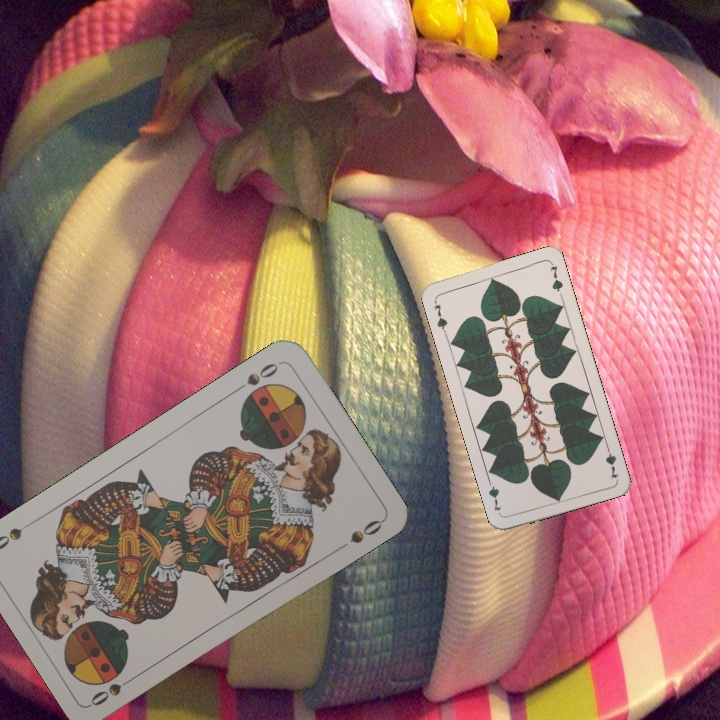G7: (601, 441, 621, 481), (430, 295, 450, 335)
SO: (86, 670, 141, 709), (231, 358, 284, 395)
